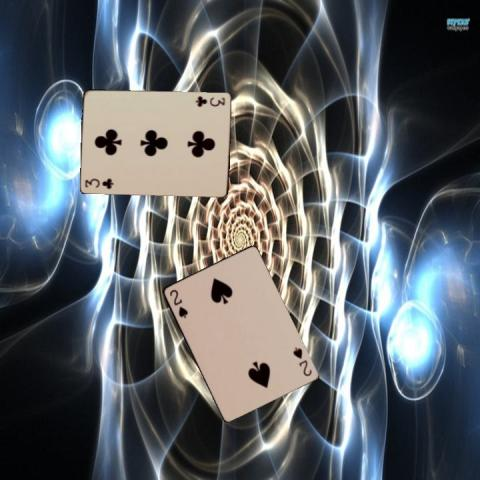2s: (166, 287, 189, 319), (290, 345, 313, 377)
3c: (192, 93, 226, 108), (82, 176, 115, 190)
